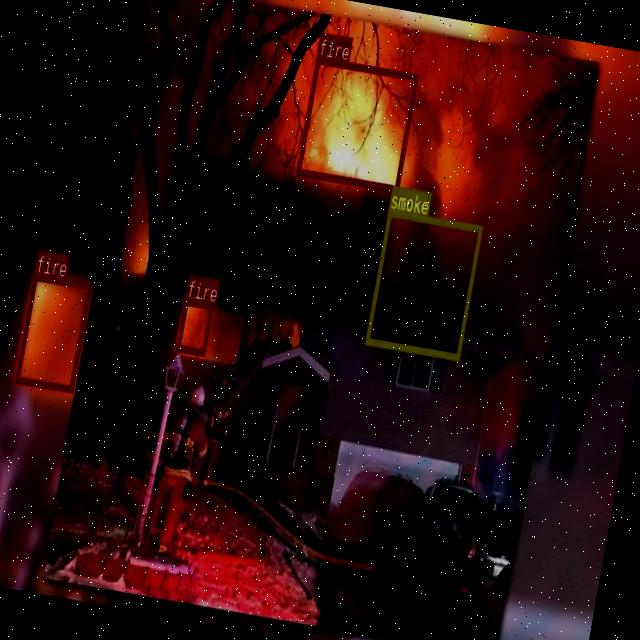fire: (296, 56, 418, 190), (15, 272, 90, 391), (175, 296, 212, 354)
smoke: (364, 208, 482, 360)
